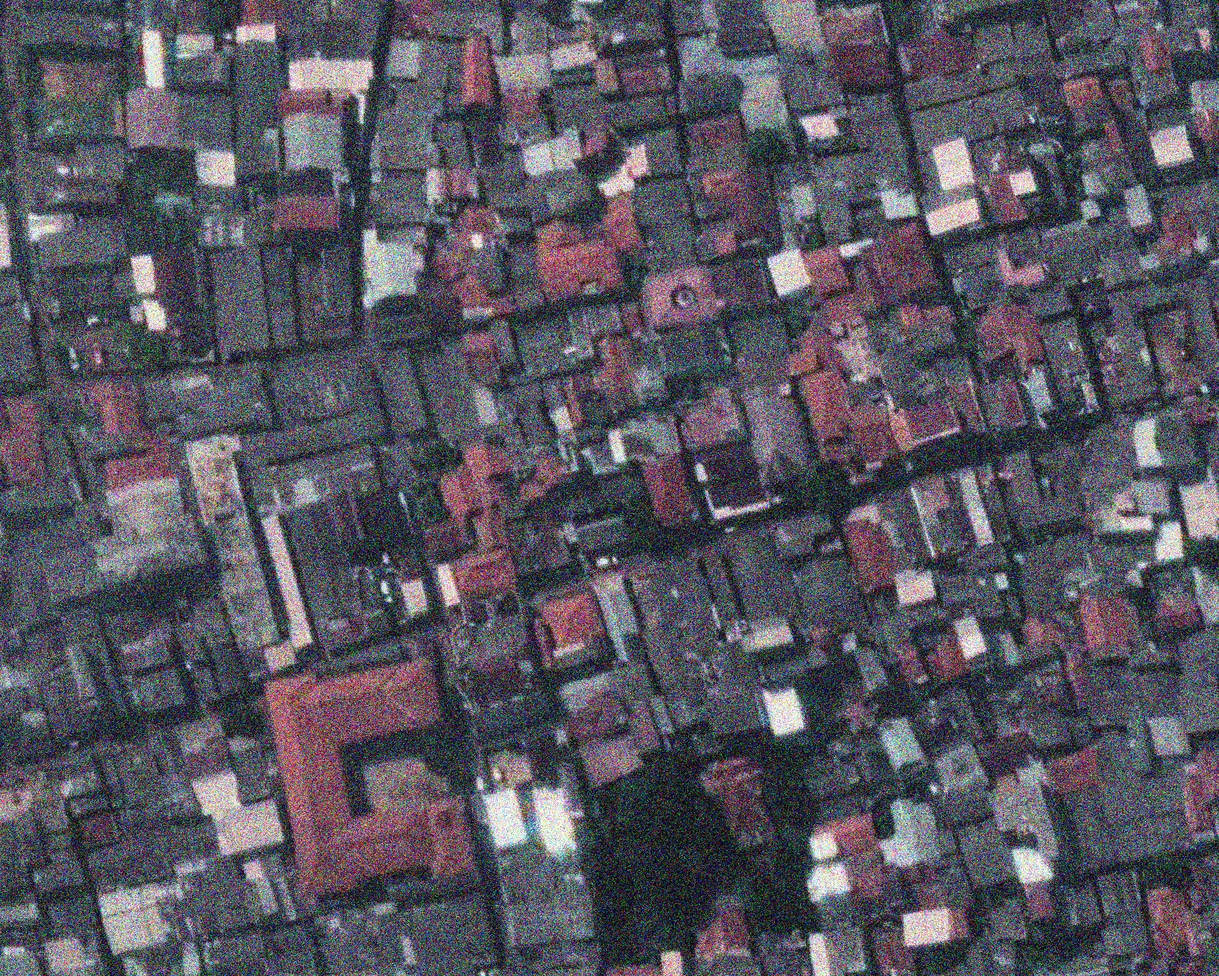building: (267, 650, 481, 905), (610, 542, 782, 765), (29, 470, 207, 606), (183, 432, 283, 652), (858, 295, 992, 459), (796, 95, 933, 244), (221, 348, 386, 471), (85, 845, 253, 959), (899, 19, 1069, 127), (548, 653, 682, 788), (1087, 277, 1219, 409), (436, 597, 557, 740), (1052, 764, 1200, 875), (312, 891, 499, 976), (486, 839, 597, 976), (0, 748, 117, 872), (837, 493, 940, 632), (1070, 417, 1178, 547), (472, 288, 602, 394), (709, 529, 810, 664), (93, 721, 204, 841), (169, 702, 276, 824), (904, 460, 1014, 578), (85, 804, 223, 893), (73, 374, 177, 492), (878, 597, 997, 700), (1024, 279, 1103, 422), (996, 437, 1099, 546), (50, 607, 134, 739), (936, 222, 1053, 315), (739, 385, 826, 509), (139, 366, 273, 445), (247, 443, 383, 520), (284, 501, 365, 624), (699, 744, 789, 851), (1074, 656, 1152, 778), (785, 551, 871, 659), (852, 224, 947, 320), (992, 438, 1081, 540), (1048, 41, 1139, 140), (689, 165, 781, 261), (129, 246, 209, 356), (1008, 531, 1104, 621), (906, 88, 1031, 157), (530, 226, 630, 312), (259, 510, 316, 653), (913, 734, 994, 832), (818, 0, 898, 99), (988, 781, 1069, 877), (863, 790, 949, 878), (23, 140, 127, 212), (1133, 880, 1211, 976), (1082, 870, 1153, 975), (528, 590, 609, 681), (77, 815, 171, 893), (808, 812, 889, 902), (430, 436, 518, 518), (117, 626, 193, 720), (208, 247, 271, 360), (726, 71, 798, 169), (933, 559, 1012, 645), (195, 923, 321, 976), (174, 616, 247, 707), (722, 317, 802, 400), (689, 441, 769, 523), (280, 4, 388, 64), (430, 540, 520, 612), (1002, 677, 1078, 761), (231, 37, 276, 178), (1064, 586, 1141, 668), (635, 262, 725, 332), (15, 0, 124, 56), (973, 294, 1045, 378), (295, 249, 357, 346), (33, 218, 133, 278), (30, 659, 98, 747), (361, 148, 433, 231), (1168, 623, 1219, 739), (670, 109, 750, 182), (28, 84, 125, 144), (1079, 200, 1145, 288), (951, 816, 1024, 895), (682, 889, 755, 968), (360, 228, 425, 316), (833, 398, 905, 477), (376, 343, 434, 440), (1032, 220, 1103, 298), (668, 380, 747, 450), (186, 152, 243, 248), (0, 549, 59, 640), (370, 106, 443, 179), (651, 317, 730, 384), (964, 720, 1043, 786), (706, 254, 775, 329), (1124, 408, 1199, 477), (865, 711, 934, 786), (353, 478, 419, 556), (0, 393, 54, 487), (758, 0, 831, 69), (379, 40, 447, 113), (497, 379, 559, 456), (639, 450, 698, 530), (523, 168, 604, 226), (205, 798, 287, 855), (799, 366, 860, 442), (62, 784, 126, 856), (604, 408, 682, 467), (906, 137, 977, 201), (0, 470, 82, 525), (409, 265, 469, 340), (884, 393, 960, 452), (285, 48, 375, 97), (665, 71, 745, 126), (281, 109, 347, 174), (898, 303, 963, 369), (632, 218, 701, 280), (564, 506, 637, 564), (924, 185, 992, 247), (538, 73, 606, 135), (261, 247, 299, 357), (844, 732, 902, 801), (1162, 174, 1218, 245), (367, 292, 433, 351), (806, 811, 879, 863), (779, 321, 843, 380), (623, 174, 691, 229), (530, 783, 579, 859), (713, 0, 775, 60), (123, 86, 178, 151), (26, 847, 88, 904), (482, 152, 531, 222), (591, 335, 636, 411), (595, 193, 646, 260), (801, 749, 863, 804), (895, 904, 978, 945), (1170, 470, 1219, 539), (429, 0, 504, 45), (978, 373, 1031, 436), (1140, 124, 1198, 181), (828, 41, 894, 90), (481, 786, 530, 852), (601, 91, 674, 135), (907, 692, 963, 749), (1140, 594, 1205, 643), (605, 0, 665, 53), (458, 325, 506, 391), (1017, 362, 1067, 425), (0, 302, 37, 387), (1040, 747, 1104, 796), (44, 893, 100, 949), (800, 241, 852, 301), (39, 933, 111, 976), (763, 245, 815, 304), (172, 48, 235, 96), (179, 95, 231, 153), (19, 617, 72, 672), (614, 50, 672, 100), (1183, 79, 1219, 158), (467, 240, 516, 298), (493, 49, 553, 96), (462, 37, 501, 109), (759, 683, 808, 740), (868, 920, 916, 976), (239, 857, 281, 921), (900, 860, 948, 916), (418, 518, 474, 565), (755, 931, 813, 976), (675, 31, 728, 80), (271, 198, 339, 236), (1055, 881, 1102, 932), (810, 789, 869, 829), (1018, 615, 1064, 666), (116, 942, 187, 975), (465, 507, 512, 556), (933, 0, 1025, 25), (1132, 66, 1183, 111), (1164, 9, 1215, 53), (75, 807, 122, 853), (522, 733, 566, 782), (833, 921, 872, 976), (233, 0, 281, 43), (819, 288, 865, 331), (173, 1, 212, 50), (555, 759, 586, 820), (806, 929, 846, 976), (966, 938, 1016, 975), (642, 127, 681, 174), (878, 182, 920, 225), (547, 38, 598, 73), (580, 300, 624, 339), (269, 870, 302, 922), (1120, 184, 1155, 232), (259, 637, 301, 677), (510, 10, 549, 53), (989, 898, 1027, 942), (669, 0, 711, 39), (1136, 30, 1172, 75), (1022, 881, 1056, 924), (0, 896, 41, 930), (1172, 0, 1215, 31), (592, 56, 621, 98), (0, 948, 42, 975), (54, 871, 88, 899), (32, 873, 42, 886)
tree: (571, 811, 764, 975), (593, 748, 709, 858), (766, 735, 818, 881), (746, 872, 826, 941), (131, 195, 208, 256), (619, 487, 670, 558), (796, 458, 854, 516), (118, 319, 165, 384), (412, 721, 468, 775), (132, 150, 192, 191), (416, 430, 465, 477), (873, 677, 918, 723), (911, 940, 962, 976), (742, 125, 785, 167), (412, 481, 447, 524), (977, 879, 1022, 912), (775, 301, 809, 337), (810, 136, 853, 160), (798, 224, 827, 256), (206, 2, 235, 28), (885, 13, 909, 44), (253, 179, 281, 205), (1061, 163, 1086, 189), (787, 118, 806, 144), (48, 342, 67, 364), (69, 407, 87, 426), (1074, 36, 1088, 52)
